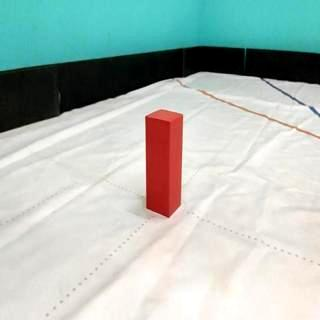redbox: (146, 109, 183, 218)
